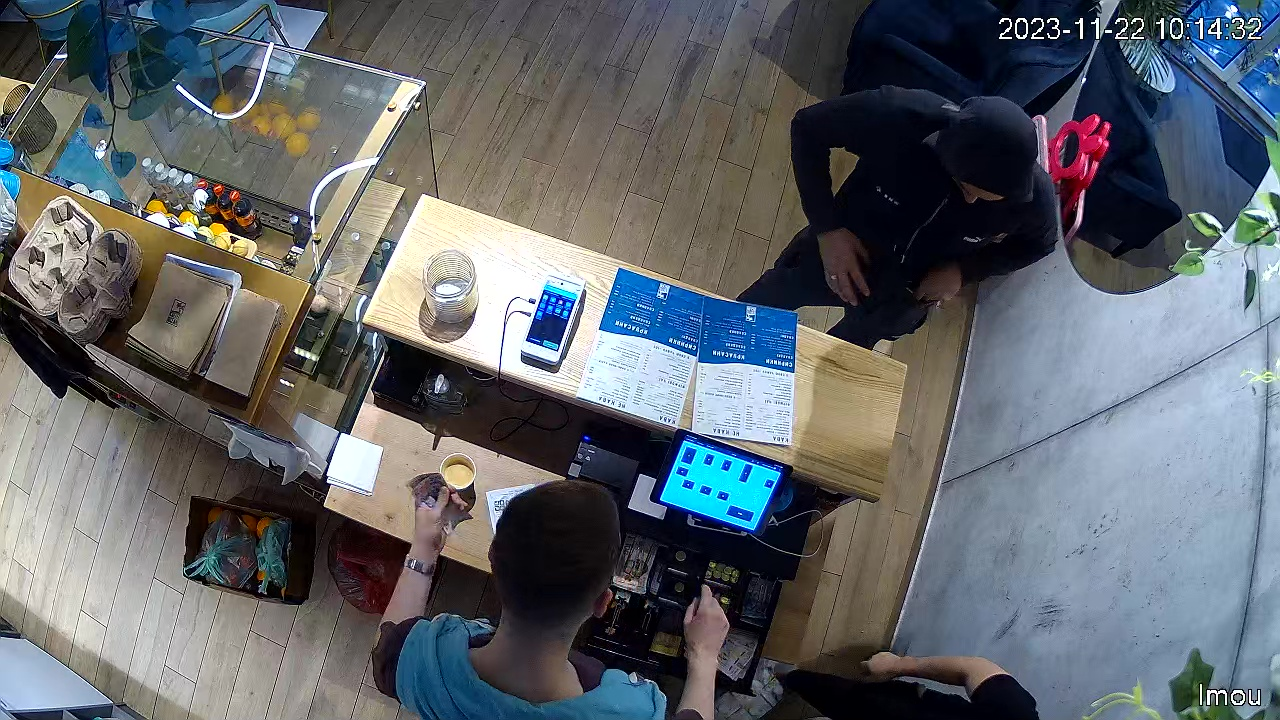openedcash: (534, 487, 790, 704)
